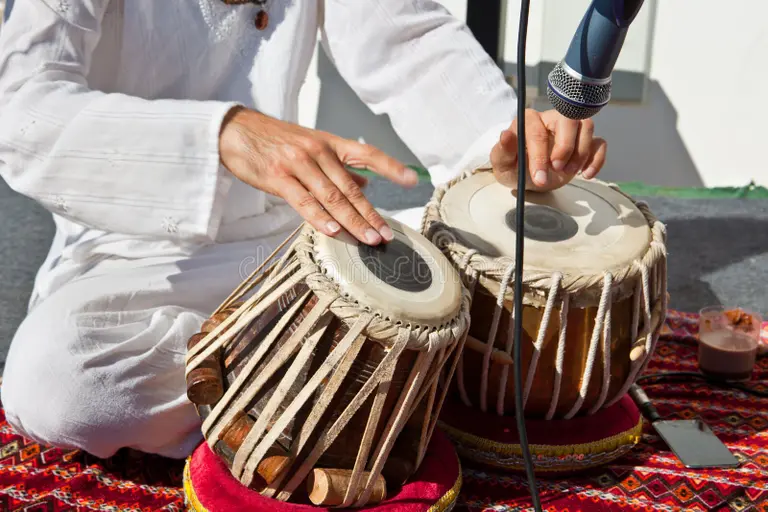tabla: (189, 216, 471, 501), (425, 167, 670, 418)
